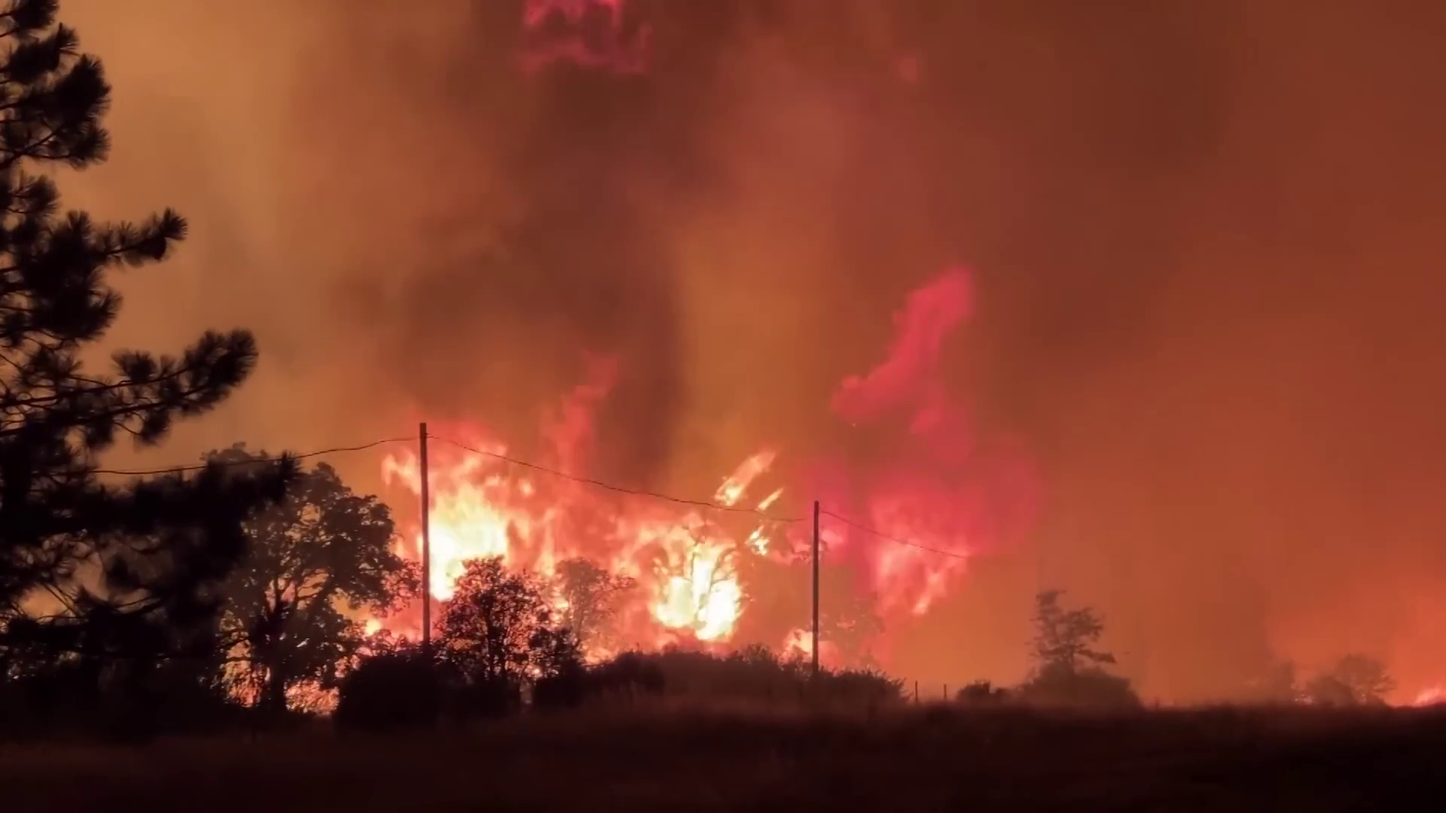forest_fire: (427, 433, 813, 650), (819, 477, 999, 614)
